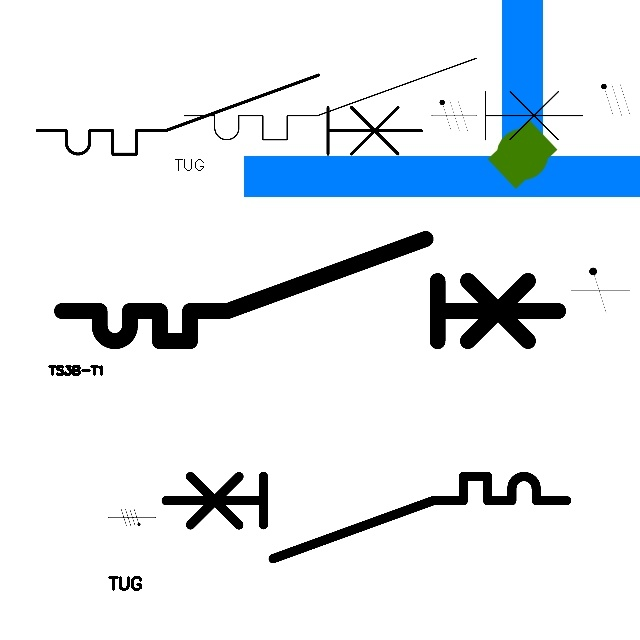interruptor_termomagnetico: (49, 226, 571, 354), (155, 466, 577, 569), (174, 48, 593, 150), (27, 65, 431, 164)
